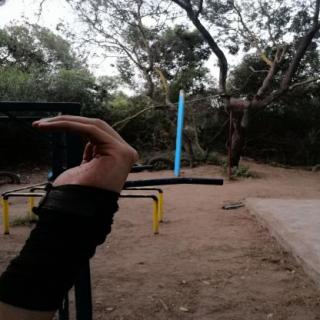HAA: (15, 106, 150, 219)
